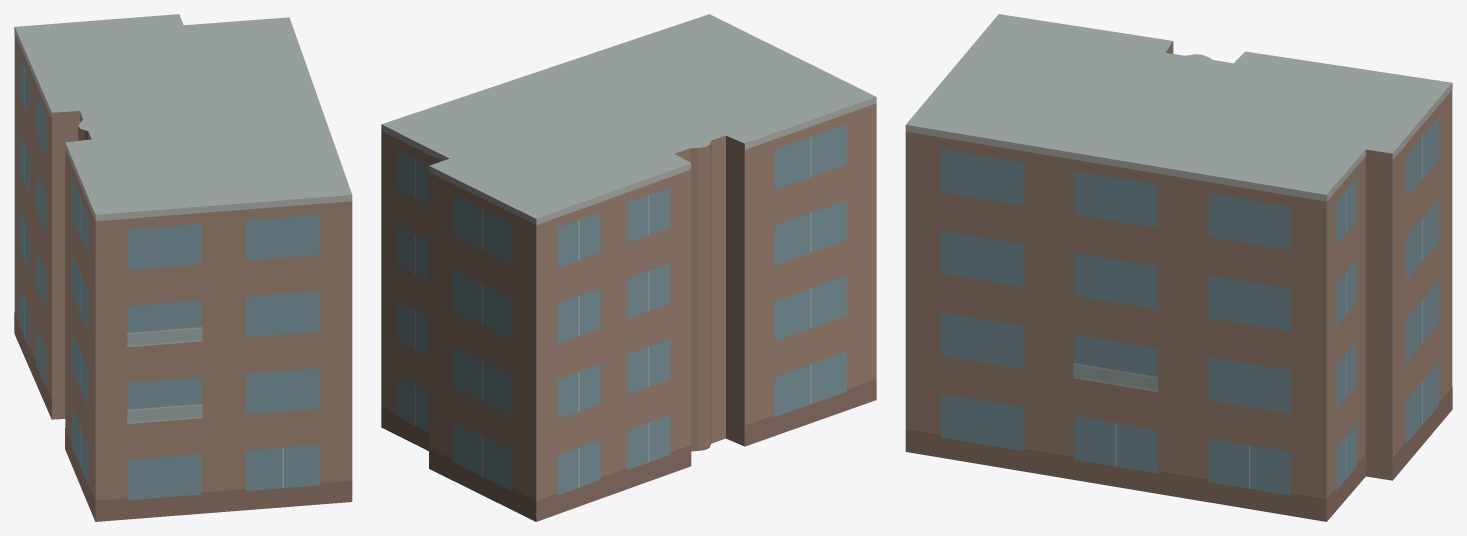
File: survey-upis-32888439.glb
3 renders of one model, left to right at view 1: azimuth 30°, elevation 25°; view 2: azimuth 150°, elevation 25°; view 3: azimuth 270°, elevation 25°, orthographic. The views are drawn at different scales.
Visible parts, largest first — view 1: survey-upis-32888439.tmp; view 2: survey-upis-32888439.tmp; view 3: survey-upis-32888439.tmp.
Part boxes in pixels (x1,y1,x2,y2): survey-upis-32888439.tmp: [14, 14, 352, 521]; survey-upis-32888439.tmp: [381, 14, 876, 521]; survey-upis-32888439.tmp: [905, 14, 1452, 521].
Size of the model in its own units: 13.89 by 11.7 by 17.74.
